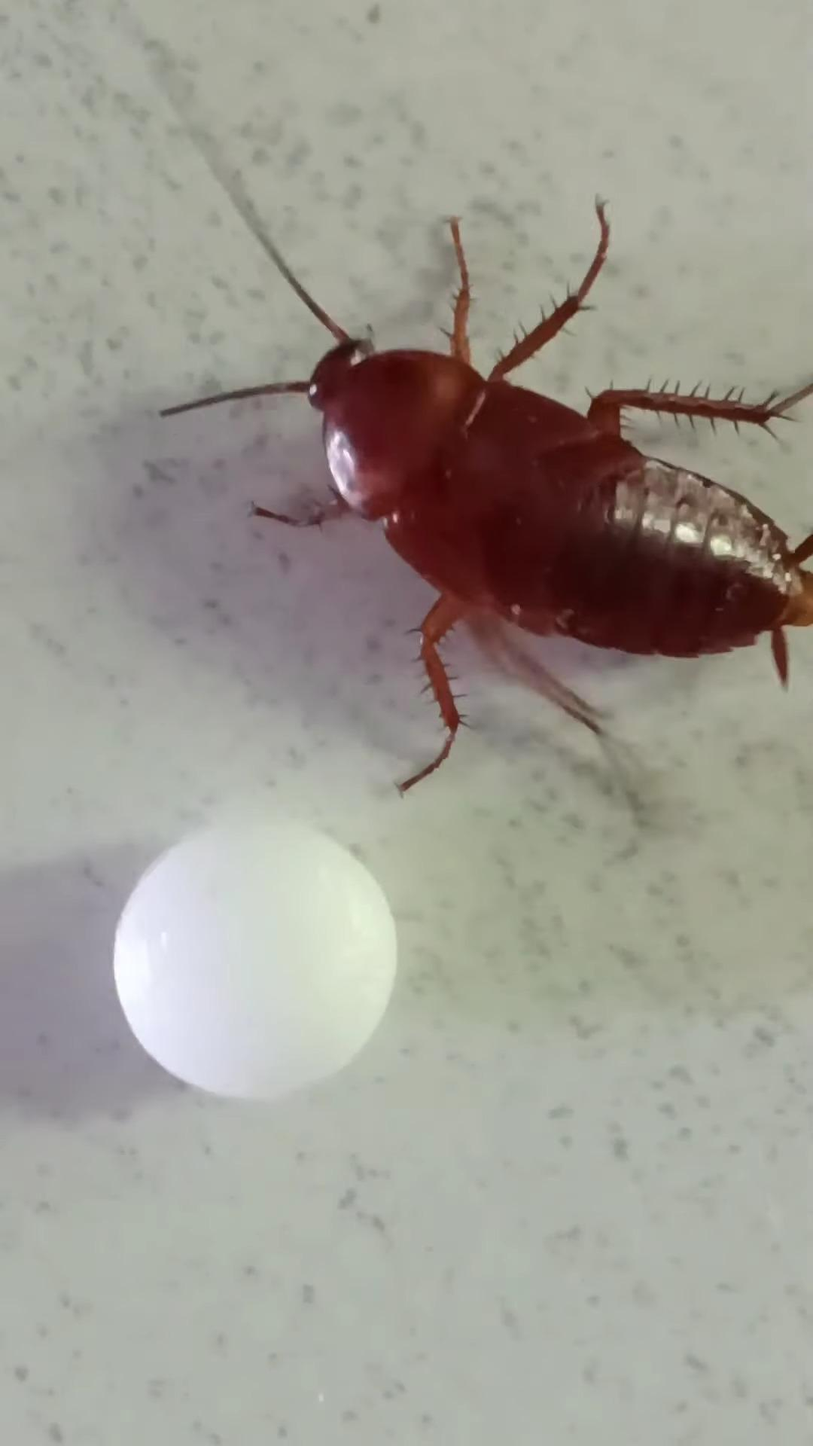cockroach: (53, 106, 813, 781)
